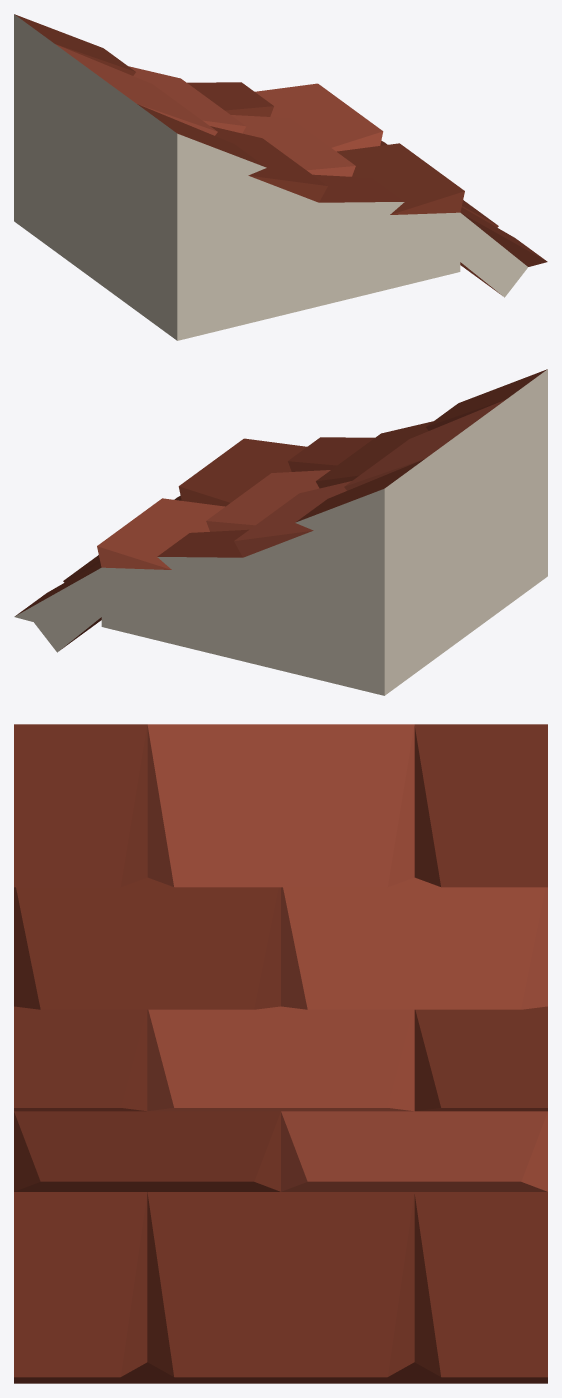
The model's file is Roof_Concave_Side_Eave.obj.
3 renders of one model, top to bottom at view 1: azimuth 30°, elevation 25°; view 2: azimuth 150°, elevation 25°; view 3: azimuth 270°, elevation 25°, orthographic. The views are drawn at different scales.
Parts seen in each view (by area): view 1: object1; view 2: object1; view 3: object1.
Part boxes in pixels (bbox=[...]): object1: bbox=[14, 14, 547, 340]; object1: bbox=[14, 369, 547, 695]; object1: bbox=[14, 724, 547, 1383].
Size of the model in its own units: 1.31 by 0.8233 by 1.
